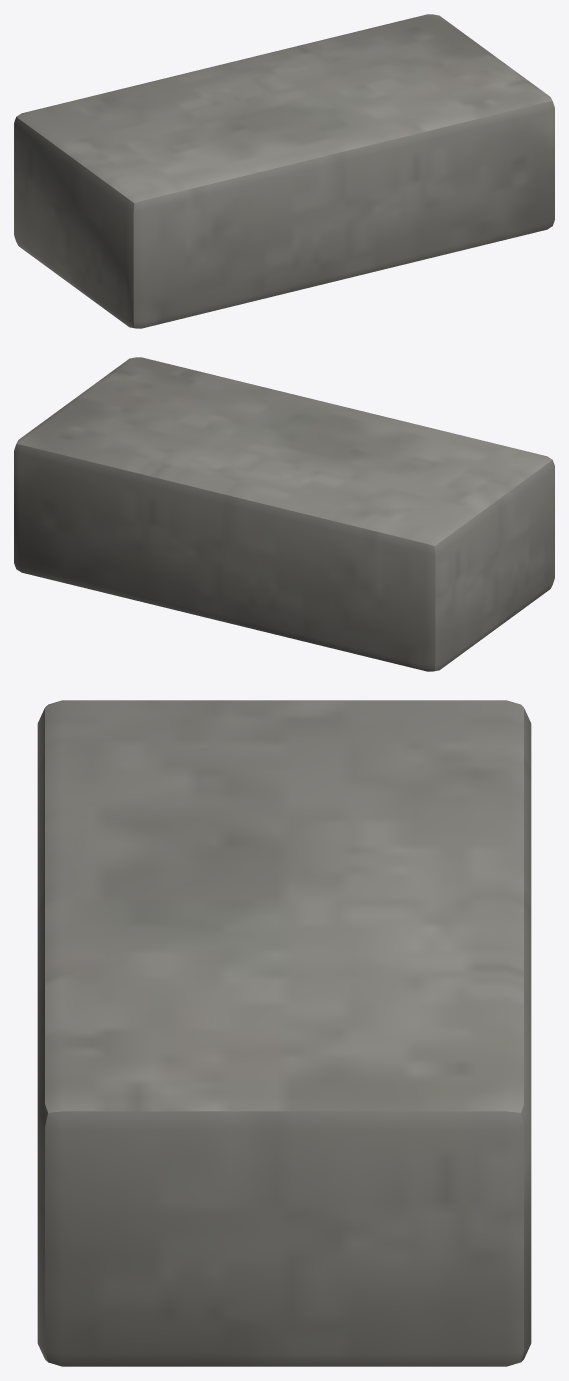
The model's file is PAV-BLQ-002_lod1.glb.
3 renders of one model, top to bottom at view 1: azimuth 30°, elevation 25°; view 2: azimuth 150°, elevation 25°; view 3: azimuth 270°, elevation 25°, orthographic. The views are drawn at different scales.
Parts seen in each view (by area): view 1: PAV-BLQ-002_peca; view 2: PAV-BLQ-002_peca; view 3: PAV-BLQ-002_peca.
Boxes of the visible parts, x1=… form: PAV-BLQ-002_peca: x1=14, y1=14, x2=554, y2=328; PAV-BLQ-002_peca: x1=14, y1=357, x2=554, y2=671; PAV-BLQ-002_peca: x1=37, y1=700, x2=531, y2=1366.
Size of the model in its own units: 0.2 by 0.06 by 0.1.
1 material, 1 textured.
